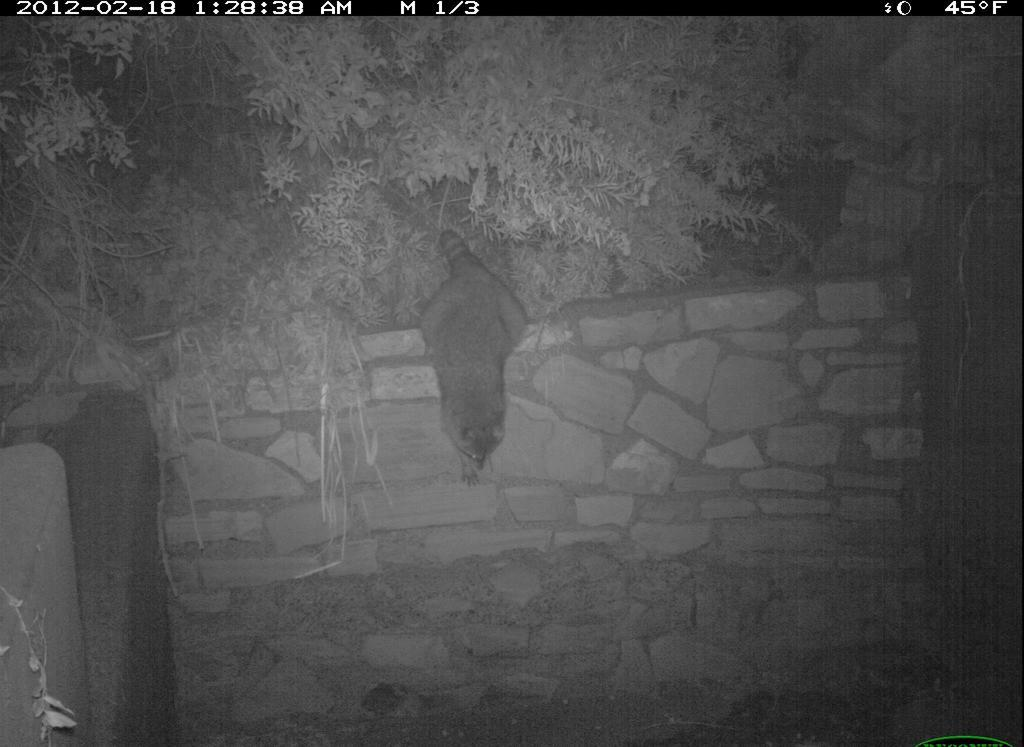raccoon: (394, 216, 543, 499)
